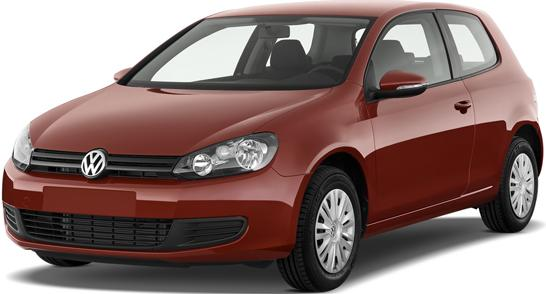front_view: (4, 104, 304, 255)
headlight: (168, 132, 286, 180)
side_glass: (363, 7, 487, 107)
